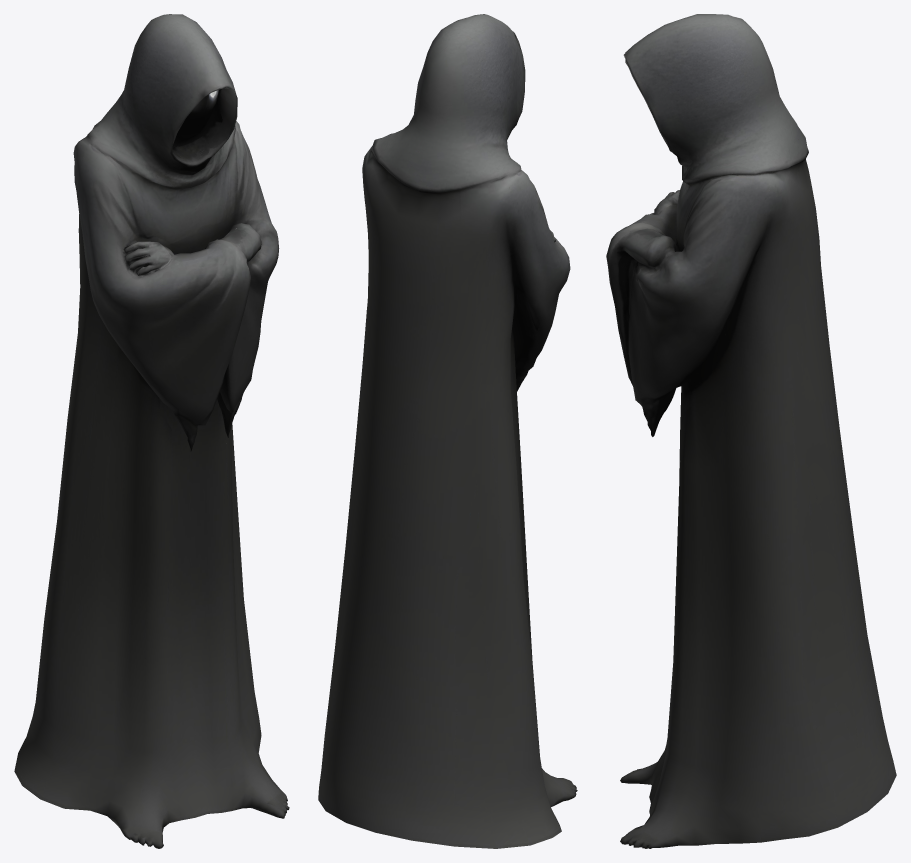
File: 019f4176-990f-7922-b1d5-2353fbec27ea.glb
3 renders of one model, left to right at view 1: azimuth 30°, elevation 25°; view 2: azimuth 150°, elevation 25°; view 3: azimuth 270°, elevation 25°, orthographic. The views are drawn at different scales.
Parts seen in each view (by area): view 1: tripo_node_de342306-52a4-48c0-8a20-70f59874eb09; view 2: tripo_node_de342306-52a4-48c0-8a20-70f59874eb09; view 3: tripo_node_de342306-52a4-48c0-8a20-70f59874eb09.
Part boxes in pixels (bbox=[...]): tripo_node_de342306-52a4-48c0-8a20-70f59874eb09: bbox=[14, 14, 289, 848]; tripo_node_de342306-52a4-48c0-8a20-70f59874eb09: bbox=[318, 14, 577, 848]; tripo_node_de342306-52a4-48c0-8a20-70f59874eb09: bbox=[606, 14, 896, 848].
Bounding box in the file's own units: 0.2988 × 0.998 × 0.3301.
1 material, 1 textured.
